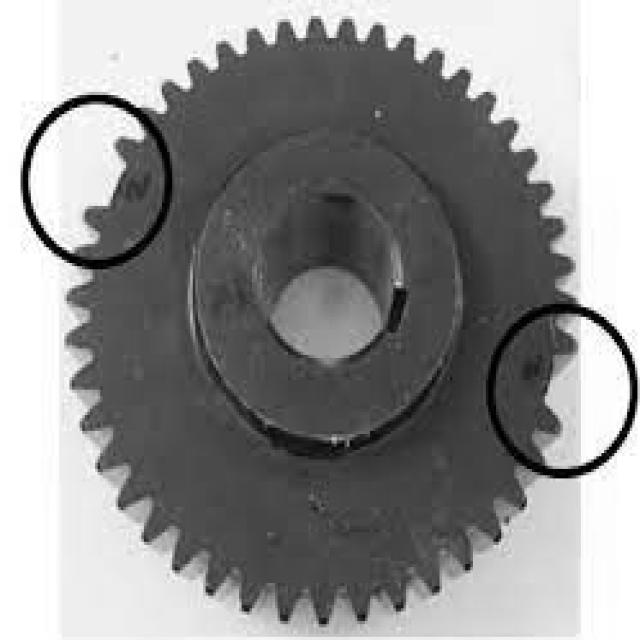Fault-Exist: (47, 89, 191, 506), (518, 211, 615, 620)
